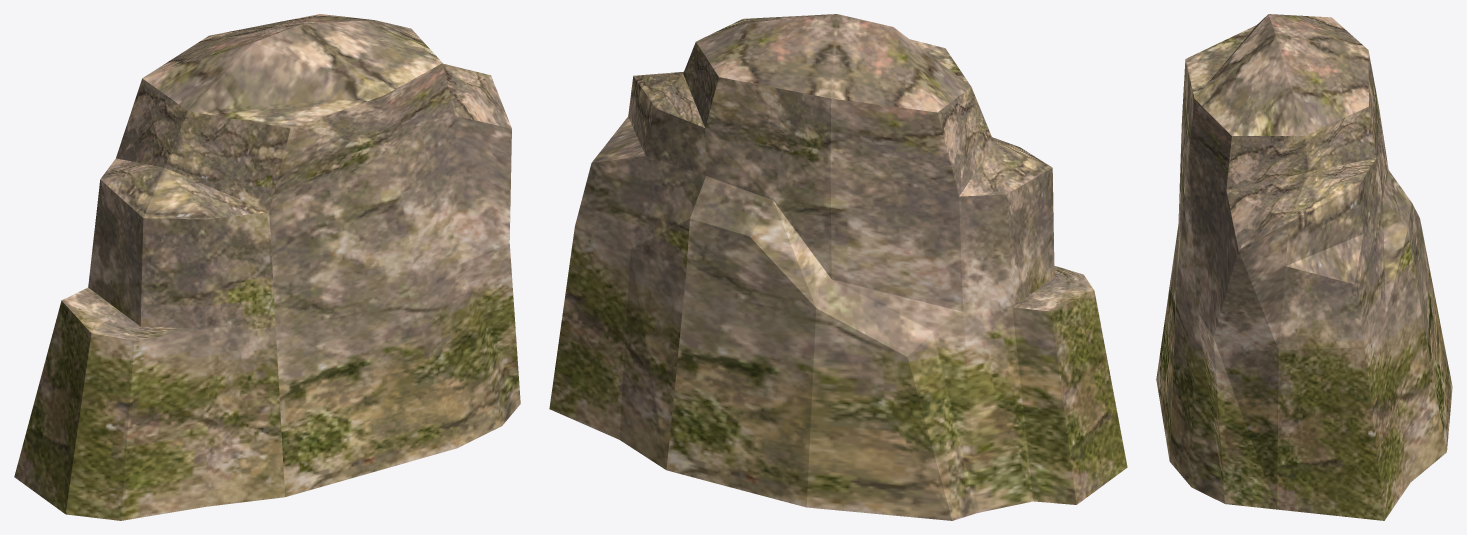
Rendered from town_mountain_a__11___1_33.fbx.
3 renders of one model, left to right at view 1: azimuth 30°, elevation 25°; view 2: azimuth 150°, elevation 25°; view 3: azimuth 270°, elevation 25°, orthographic. The views are drawn at different scales.
Visible parts, largest first — view 1: town_mountain_a__11___1_33; view 2: town_mountain_a__11___1_33; view 3: town_mountain_a__11___1_33.
Boxes of the visible parts, left/top/right/bottom form: town_mountain_a__11___1_33: left=14, top=14, right=520, bottom=520; town_mountain_a__11___1_33: left=549, top=14, right=1127, bottom=520; town_mountain_a__11___1_33: left=1156, top=14, right=1452, bottom=520.
Size of the model in its own units: 39.43 by 31.17 by 21.95.
